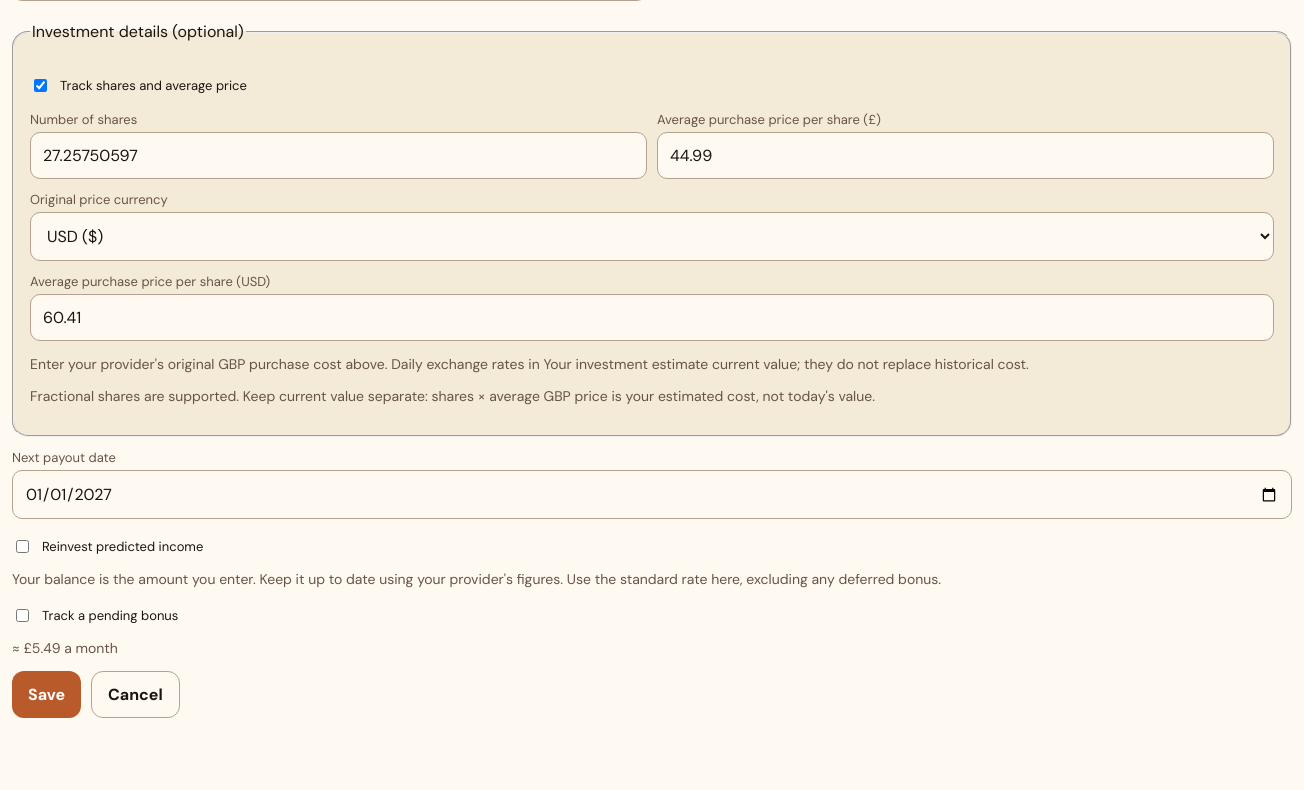
retains values on a failed save for retry
(page scrolled)
What coordinates should you click on to do the following:
click the button "Save"
I would click on:
 (47, 694)
Its box is [12,671,81,718].
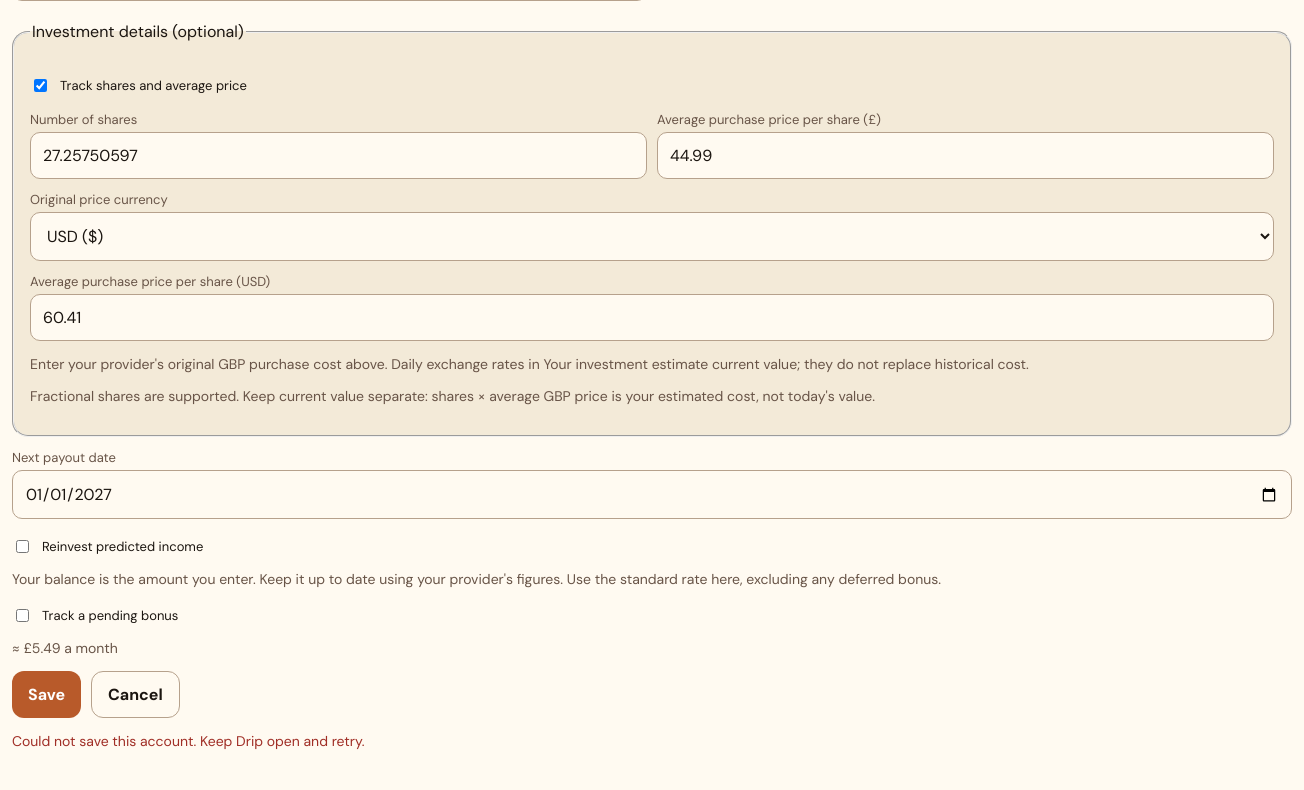
Expected: the field labelled "Number of shares" holds "27.25750597", [30,132,647,179]
Result: the message "Could not save this account. Keep Drip open and retry." is shown at [12,732,364,750]
